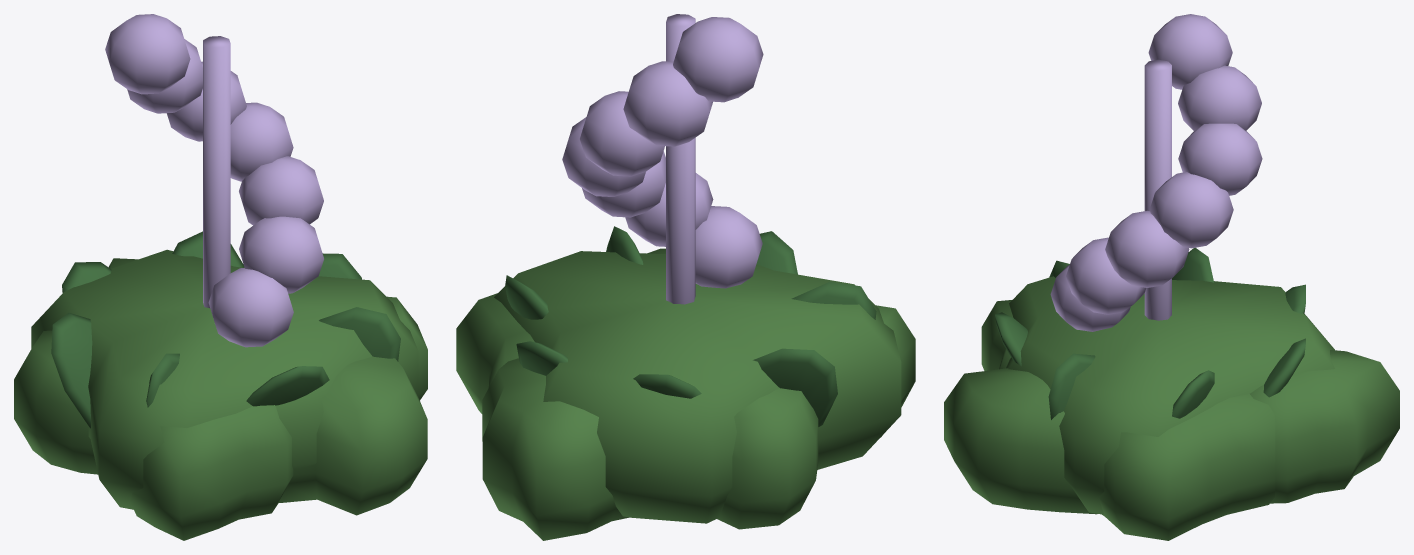
Rendered from flowers_07.glb.
3 renders of one model, left to right at view 1: azimuth 30°, elevation 25°; view 2: azimuth 150°, elevation 25°; view 3: azimuth 270°, elevation 25°, orthographic. The views are drawn at different scales.
Visible parts, largest first — view 1: Ground foliage.030, Tint, Ground foliage.033, Ground foliage.032, Ground foliage.034, Broad leaf.005, Broad leaf.001, Broad leaf, Ground foliage.031, Broad leaf.004, Broad leaf.002, Broad leaf.006 (+1 smaller); view 2: Ground foliage.030, Tint, Ground foliage.035, Ground foliage.034, Ground foliage.031, Broad leaf.005, Ground foliage.033, Broad leaf.006, Broad leaf, Broad leaf.002, Broad leaf.003, Broad leaf.004 (+1 smaller); view 3: Ground foliage.030, Tint, Ground foliage.031, Ground foliage.035, Ground foliage.032, Ground foliage.033, Broad leaf.001, Broad leaf.003, Broad leaf.002, Broad leaf, Broad leaf.005.
Part boxes in pixels (x1,y1,x2,y2): Ground foliage.030: (31, 249, 418, 509); Tint: (105, 14, 323, 347); Ground foliage.033: (130, 405, 293, 540); Ground foliage.032: (279, 356, 427, 515); Ground foliage.034: (14, 330, 97, 474); Broad leaf.005: (51, 313, 92, 428); Broad leaf.001: (319, 307, 400, 361); Broad leaf: (246, 366, 329, 406); Ground foliage.031: (387, 296, 427, 400); Broad leaf.004: (62, 262, 111, 292); Broad leaf.002: (319, 253, 361, 279); Broad leaf.006: (146, 353, 179, 407); Ground foliage.030: (494, 251, 901, 523); Tint: (562, 14, 763, 304); Ground foliage.035: (482, 358, 629, 540); Ground foliage.034: (717, 388, 818, 529); Ground foliage.031: (456, 293, 534, 413); Broad leaf.005: (753, 348, 837, 426); Ground foliage.033: (876, 305, 915, 436); Broad leaf.006: (791, 281, 876, 319); Broad leaf: (756, 231, 797, 274); Broad leaf.002: (505, 275, 548, 319); Broad leaf.003: (516, 341, 567, 375); Broad leaf.004: (633, 374, 701, 398); Ground foliage.030: (1006, 276, 1334, 514); Tint: (1050, 14, 1262, 331); Ground foliage.031: (1098, 394, 1275, 540); Ground foliage.035: (1250, 350, 1399, 503); Ground foliage.032: (944, 368, 1097, 514); Ground foliage.033: (981, 300, 1013, 370); Broad leaf.001: (1048, 353, 1095, 419); Broad leaf.003: (1263, 338, 1305, 397); Broad leaf.002: (1172, 370, 1214, 418); Broad leaf: (995, 312, 1027, 366); Broad leaf.005: (1172, 247, 1213, 282).
Bounding box in the file's own units: 0.3904 × 0.45 × 0.4386.
